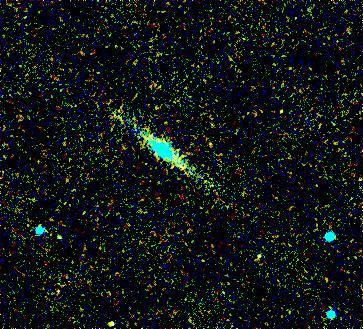star: (98, 305, 128, 329)
